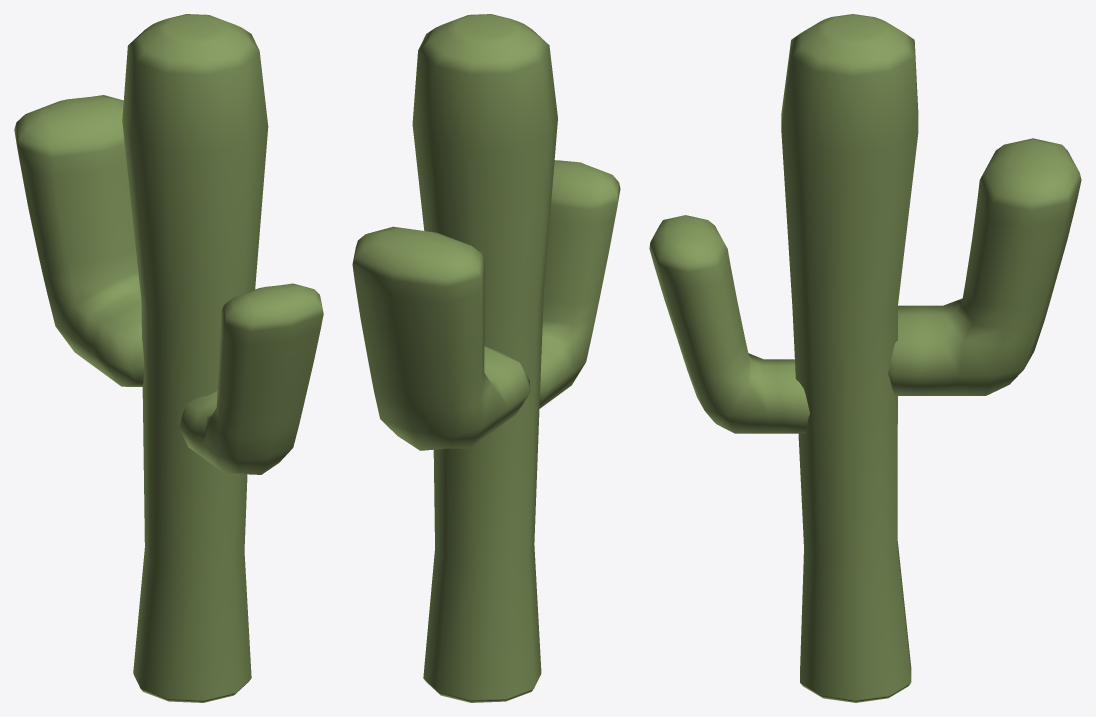
File: Environment_Cactus_Tall_Mesh_V03.fbx
3 views of the same model, side by side, from view 1: azimuth 30°, elevation 25°; view 2: azimuth 150°, elevation 25°; view 3: azimuth 270°, elevation 25° (orthographic).
Visible parts, largest first — view 1: Cactus2; view 2: Cactus2; view 3: Cactus2.
Boxes of the visible parts, x1,y1,x2,y2 form: Cactus2: [14, 14, 323, 702]; Cactus2: [352, 14, 620, 702]; Cactus2: [649, 14, 1081, 702].
Size of the model in its own units: 58.86 by 244 by 147.
